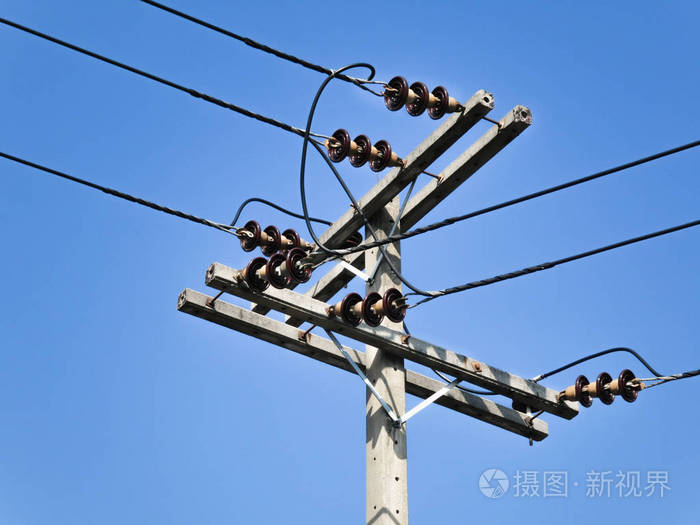insulator: (245, 248, 313, 293), (325, 129, 392, 172), (382, 77, 447, 120), (574, 368, 639, 408), (338, 288, 408, 324), (236, 221, 299, 256)
